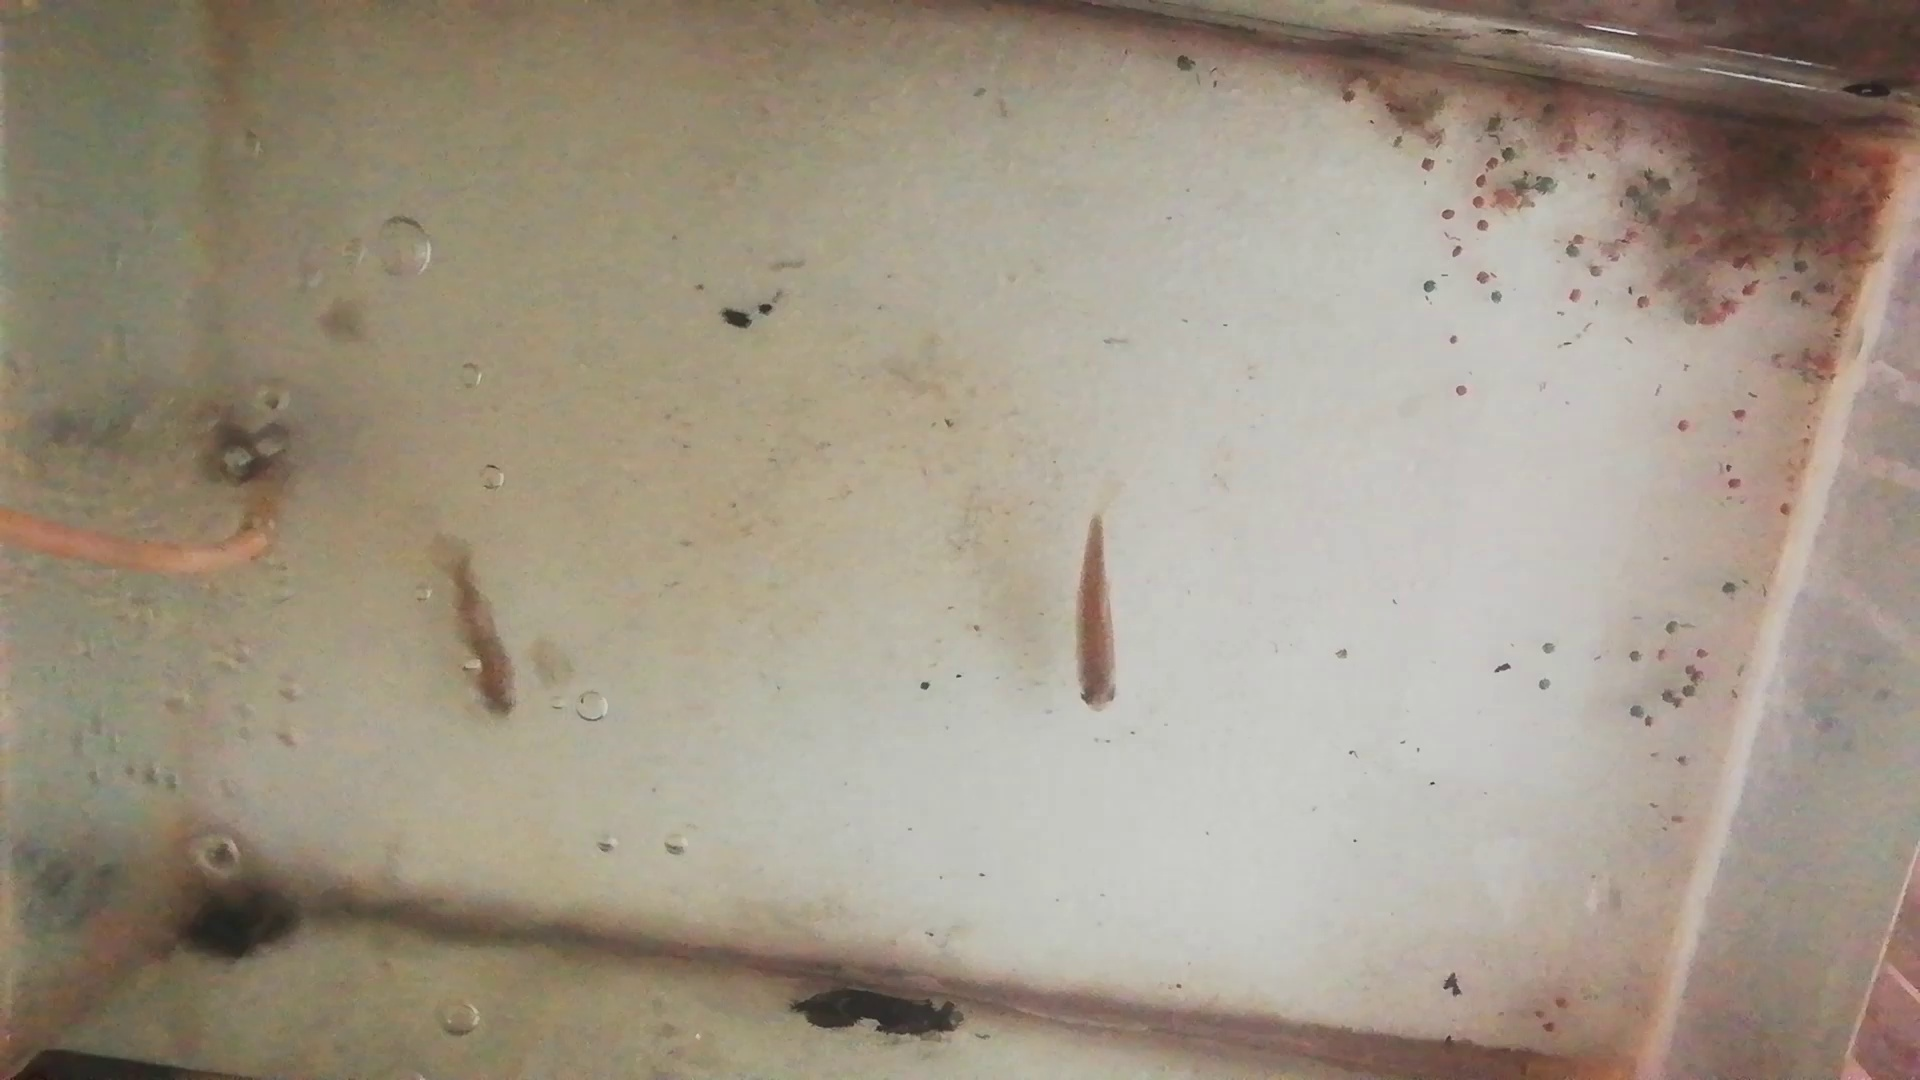fish: (444, 551, 516, 723), (1075, 502, 1126, 716)
